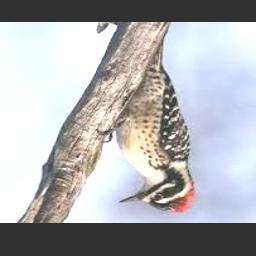Woodpecker: (97, 42, 198, 213)
